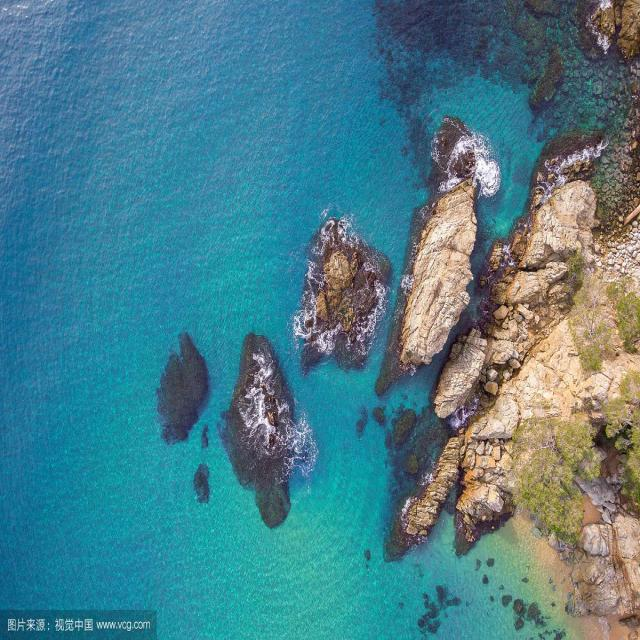reef: (439, 162, 640, 623), (420, 95, 536, 388), (203, 304, 306, 515), (288, 193, 399, 364), (160, 292, 224, 497)
